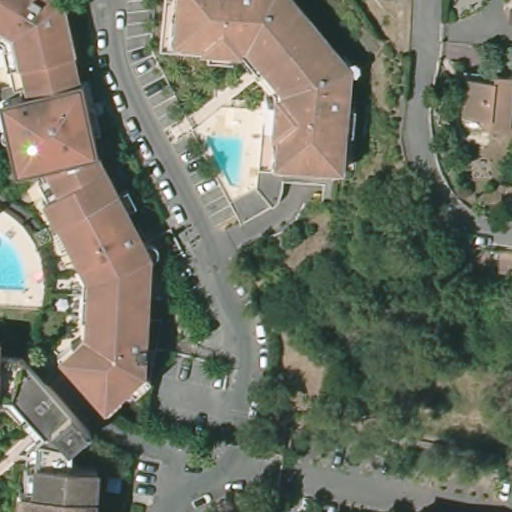pool: (1, 231, 37, 303), (205, 130, 248, 189)
